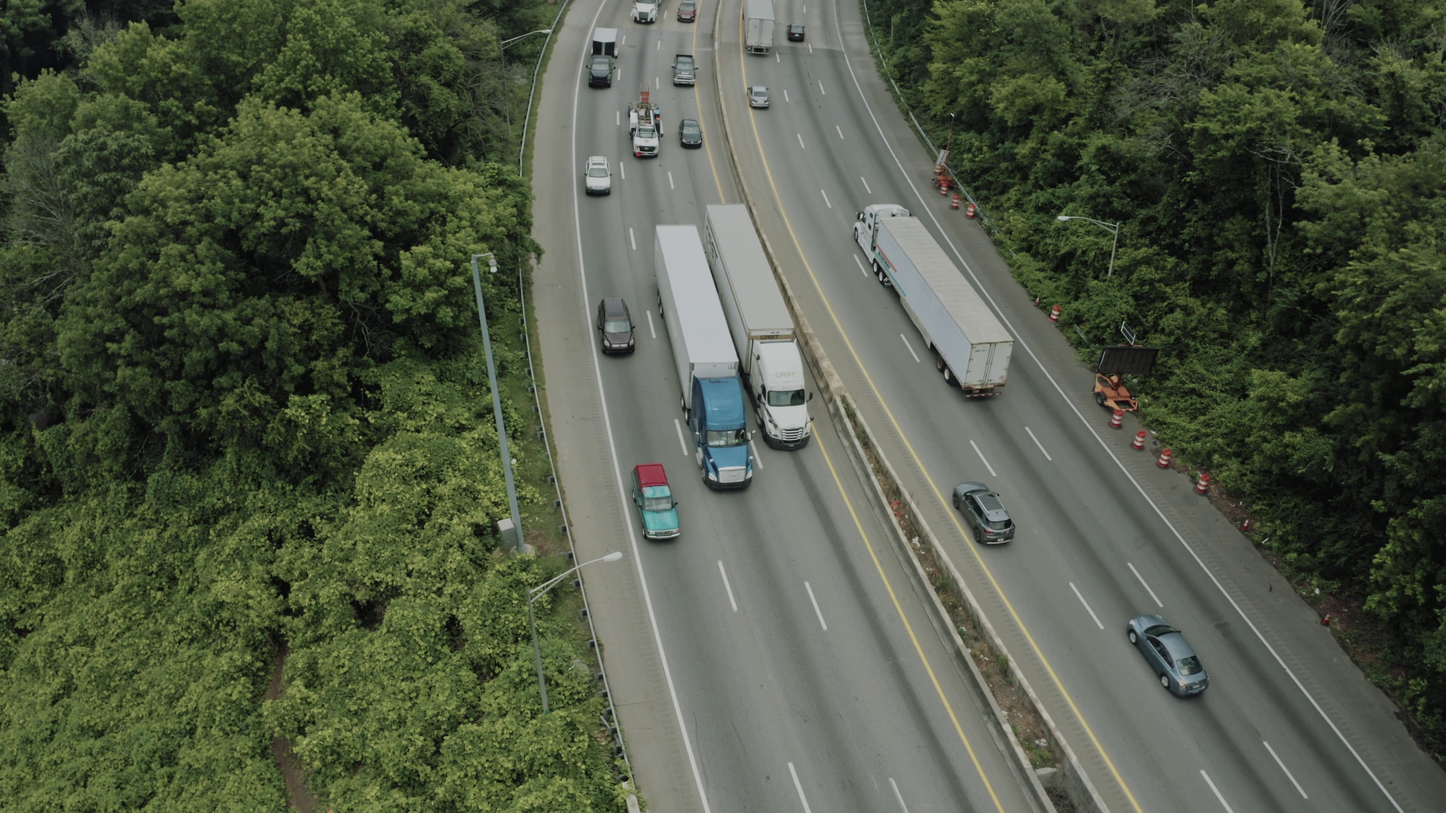Vehicle: (679, 371, 752, 492), (749, 328, 814, 452), (1126, 611, 1209, 700), (850, 197, 931, 286), (950, 479, 1016, 547), (631, 463, 681, 541), (597, 297, 639, 360), (628, 102, 662, 158), (584, 156, 613, 196), (586, 55, 616, 88), (671, 55, 698, 86), (630, 0, 662, 24), (678, 118, 702, 149), (747, 85, 770, 108), (677, 0, 697, 23), (786, 24, 805, 42), (1320, 614, 1331, 627), (1205, 473, 1211, 493)
